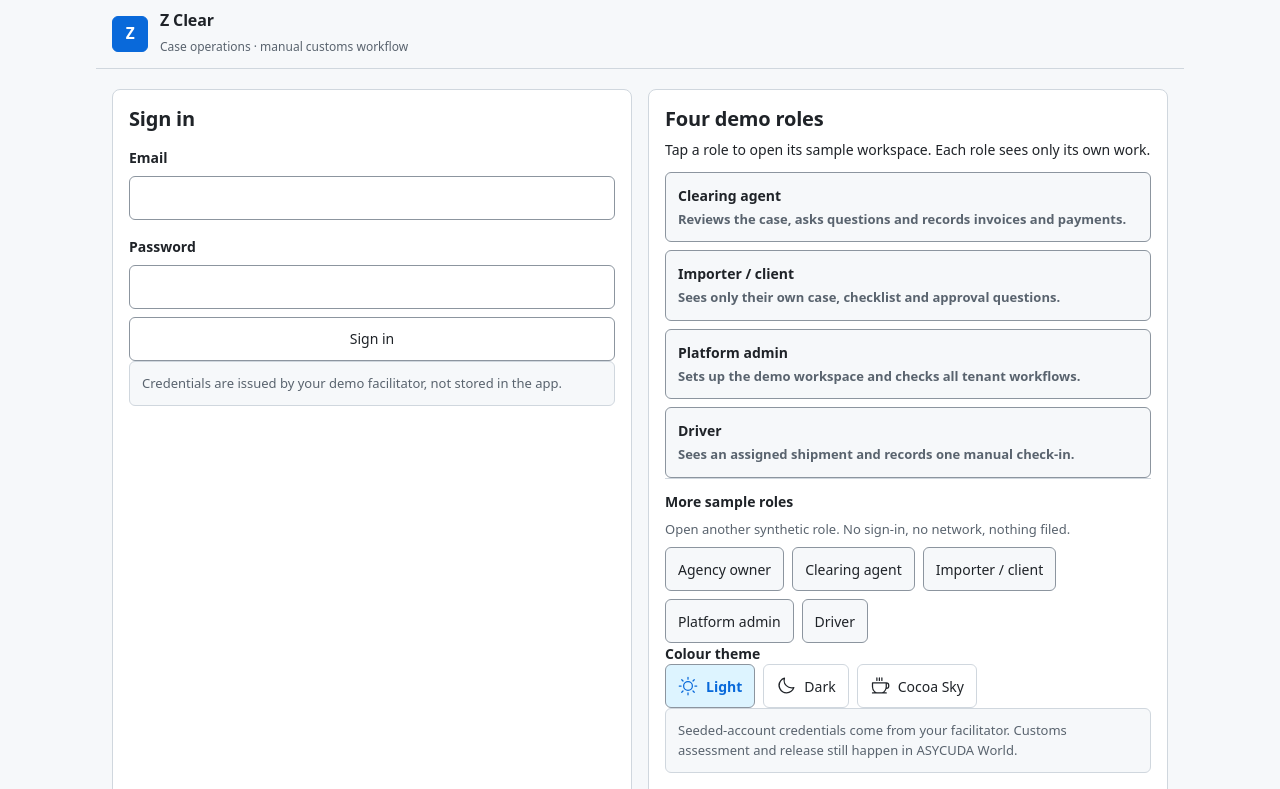
Test: App › shows invoices read-only to an importer
This screenshot has width=1280, height=789.
Type "agent@example.com" into the field labelled "Email".
click(372, 198); type("agent@example.com")  # box [129,176,615,220]
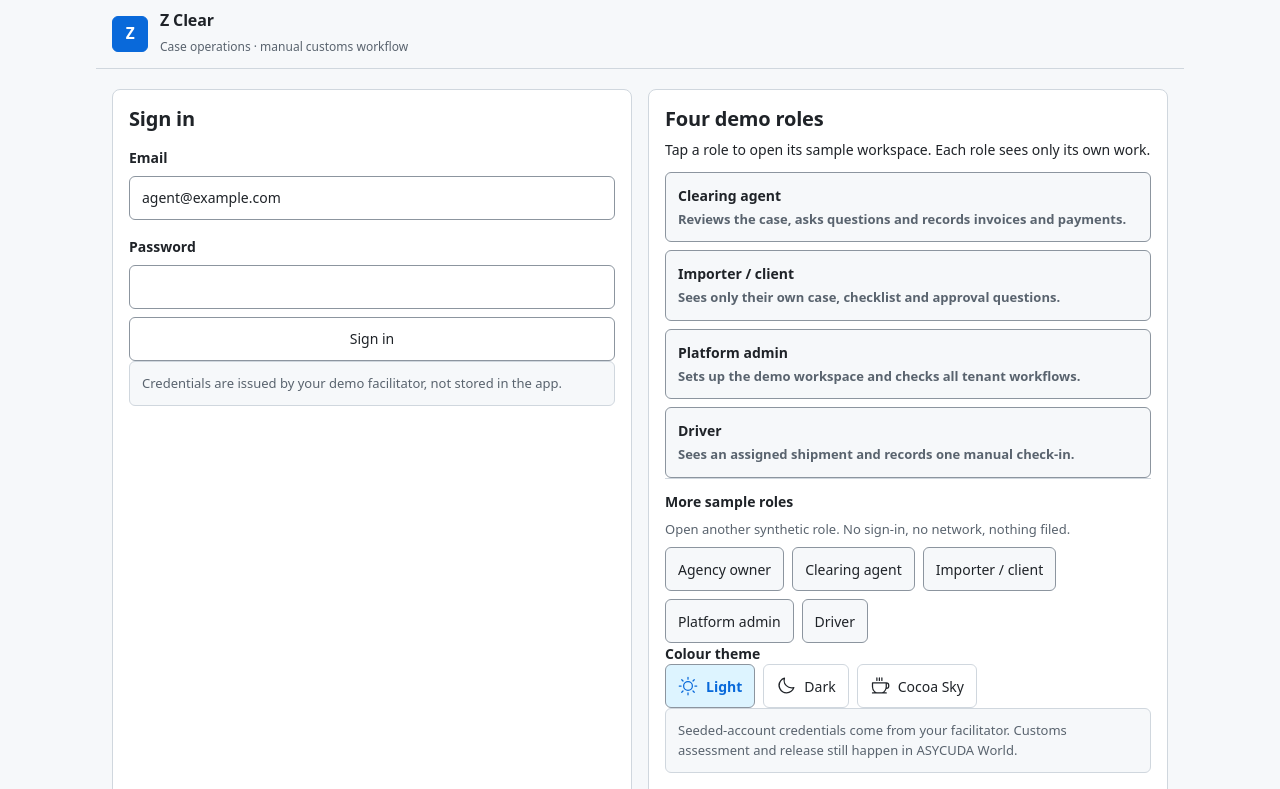
Type "demo-password" into the password field labelled "Password".
click(372, 287); type("demo-password")  # box [129,265,615,309]
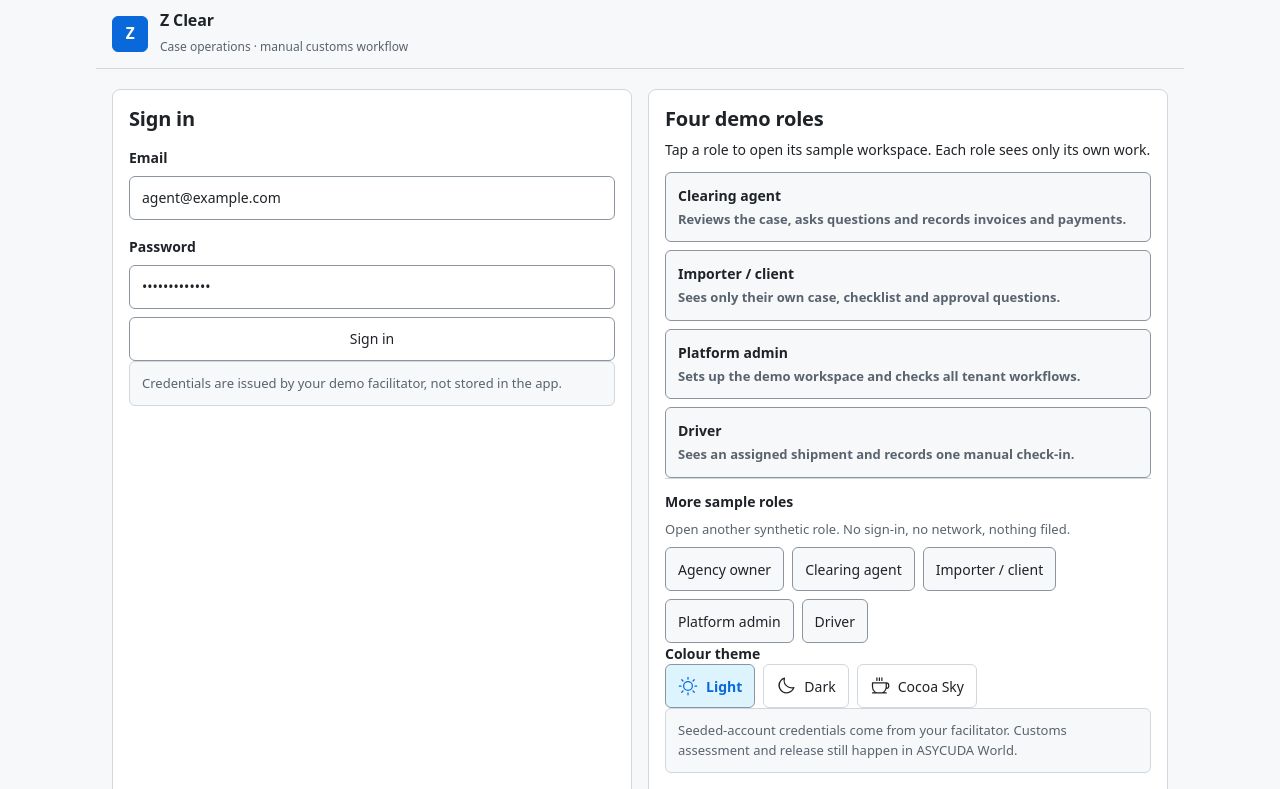
Click the button "Sign in".
click(372, 339)  # box [129,317,615,361]
(page scrolled)
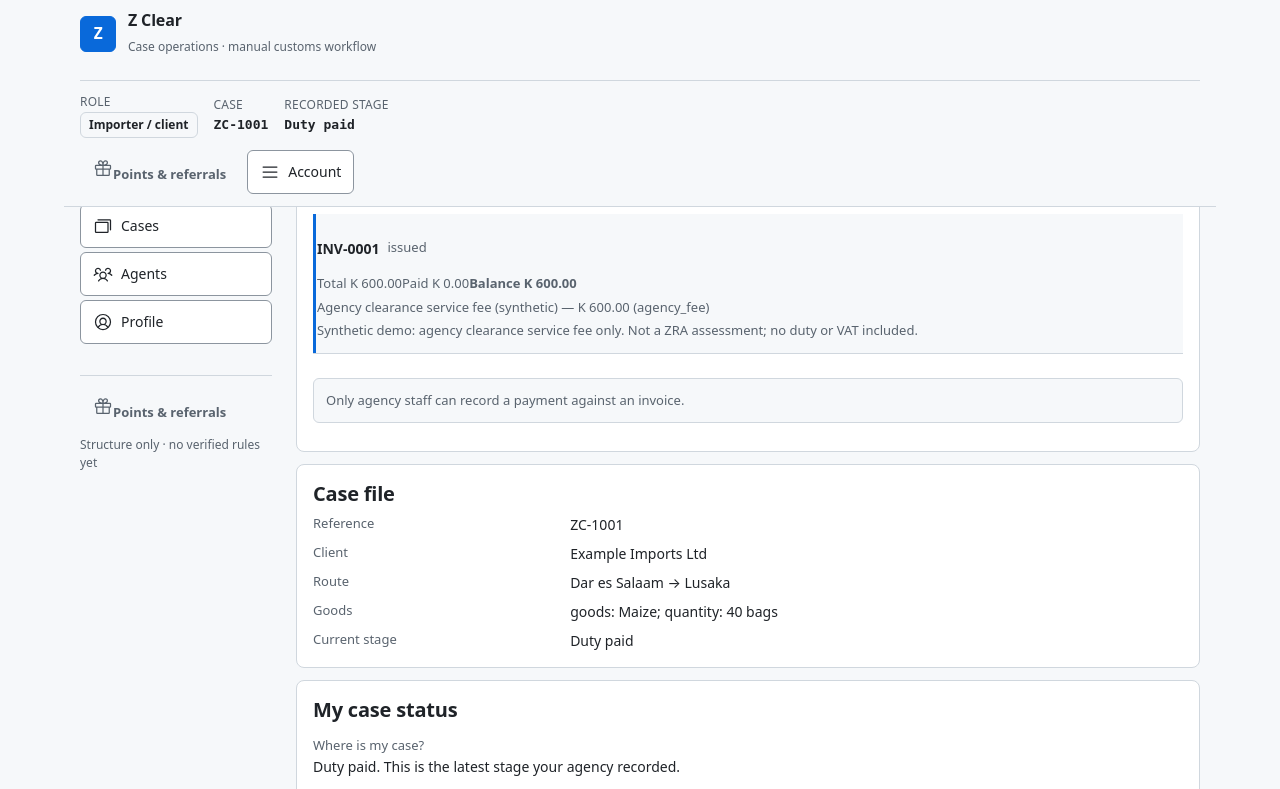
Expected: the list item with test id "invoice-row" is shown, [313,214,1183,354]
Expected: the text "Only agency staff can record a payment against an invoice." is shown, [313,378,1183,423]
